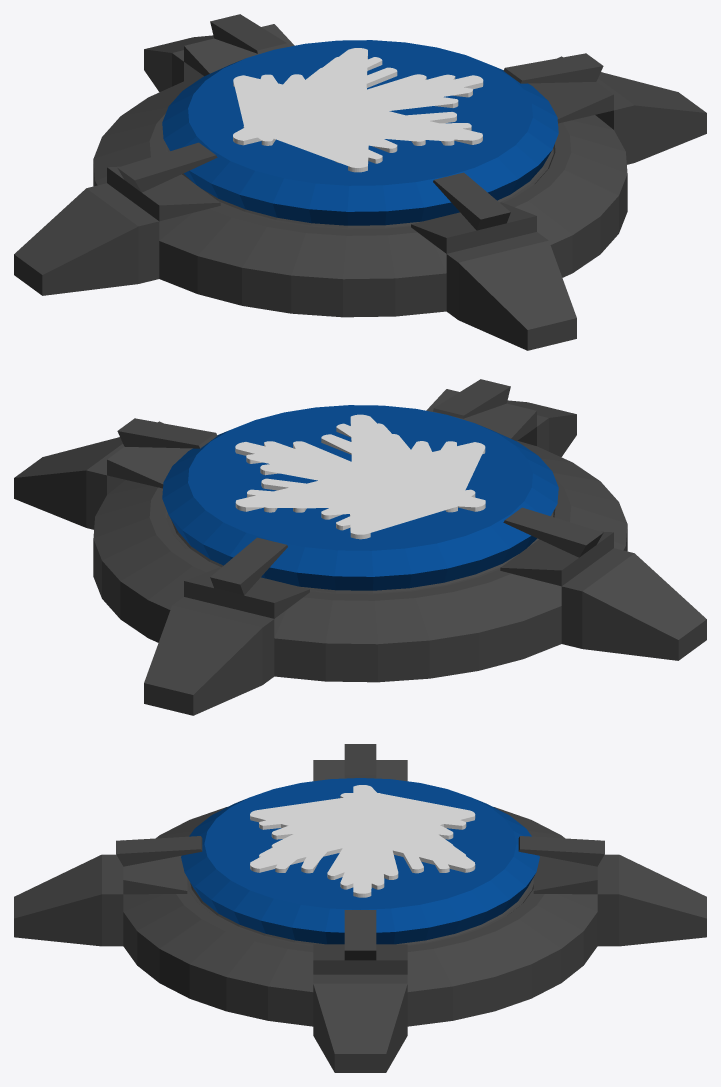
File: Ice-Trap.fbx
3 renders of one model, top to bottom at view 1: azimuth 30°, elevation 25°; view 2: azimuth 150°, elevation 25°; view 3: azimuth 270°, elevation 25°, orthographic. The views are drawn at different scales.
Parts seen in each view (by area): view 1: IceTrap; view 2: IceTrap; view 3: IceTrap.
Boxes of the visible parts, x1,y1,x2,y2 form: IceTrap: (14, 14, 706, 350); IceTrap: (14, 379, 706, 715); IceTrap: (14, 744, 706, 1072).
Size of the model in its own units: 287 by 39.54 by 287.
